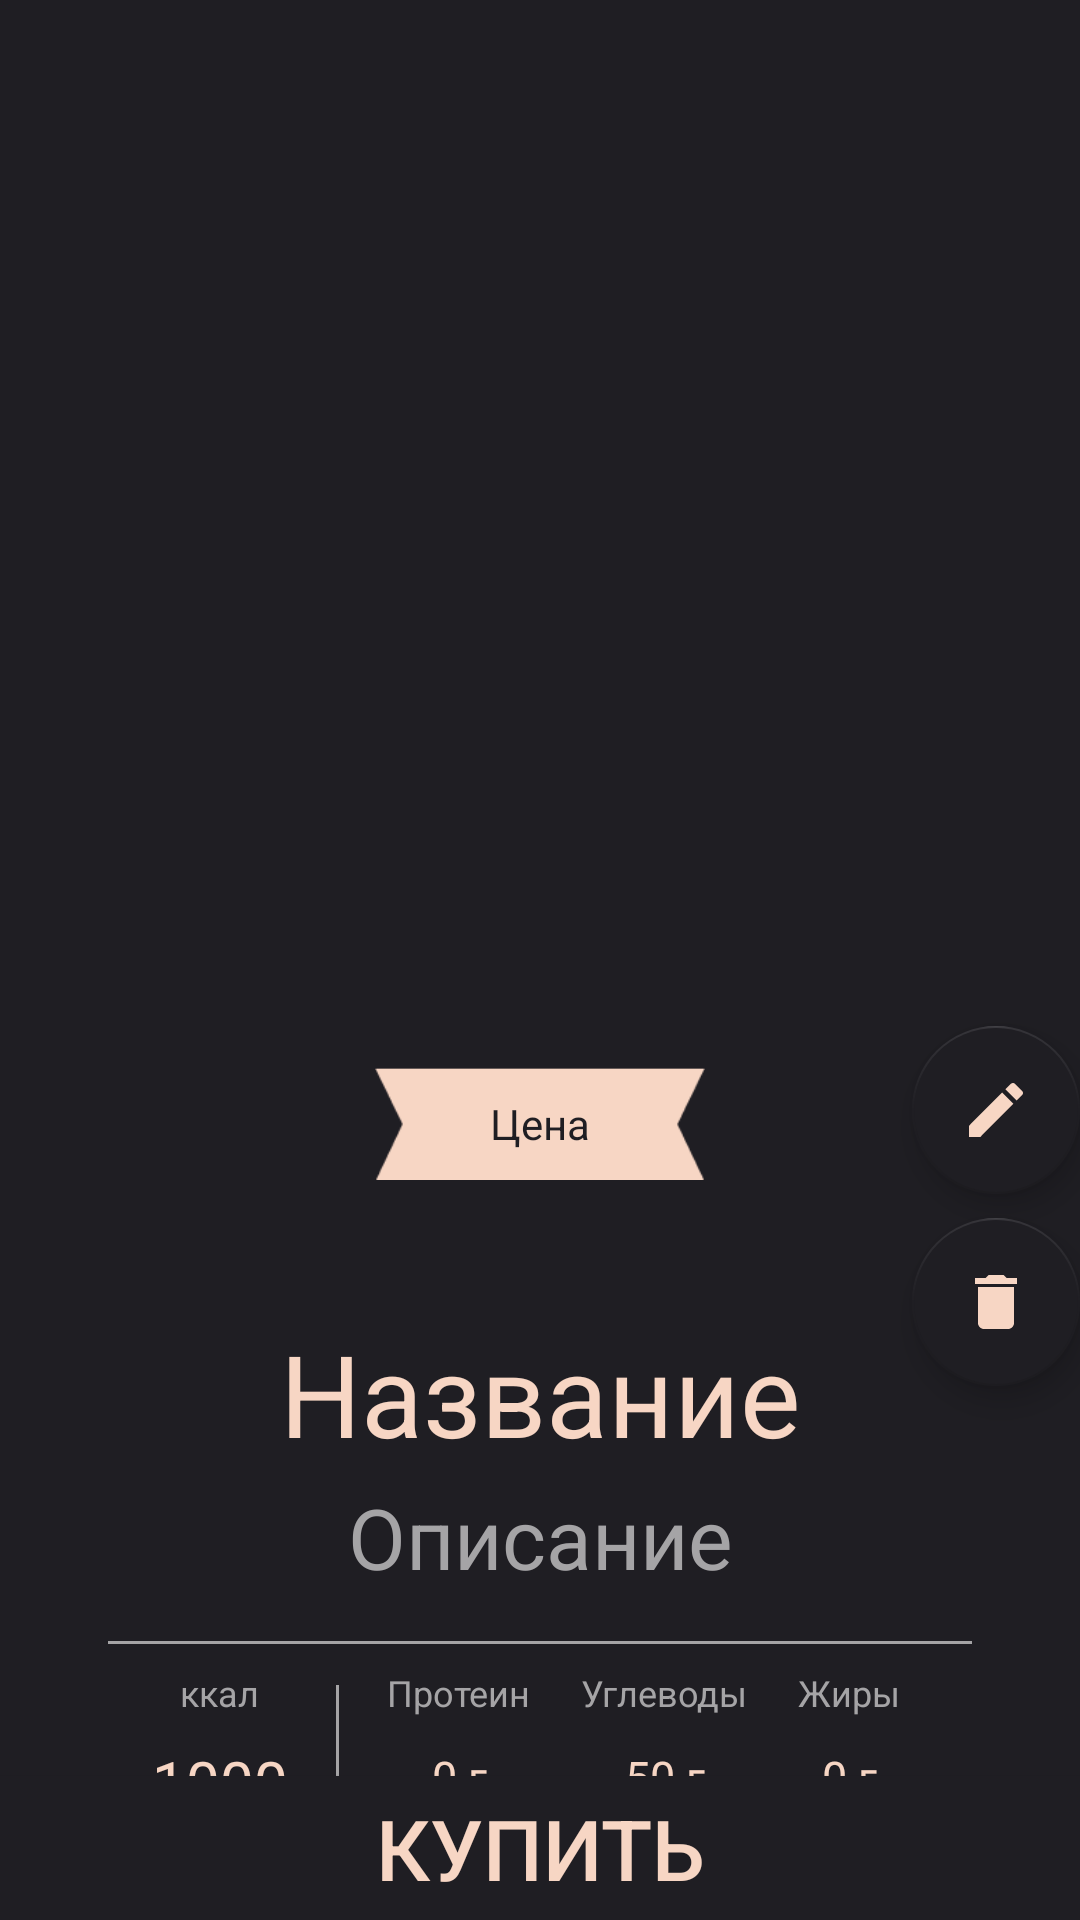

Named icons in this screenshot (1080 × 1920) and their centers, [x,y]:
delete: [996,1273]
edit: [996,1081]
